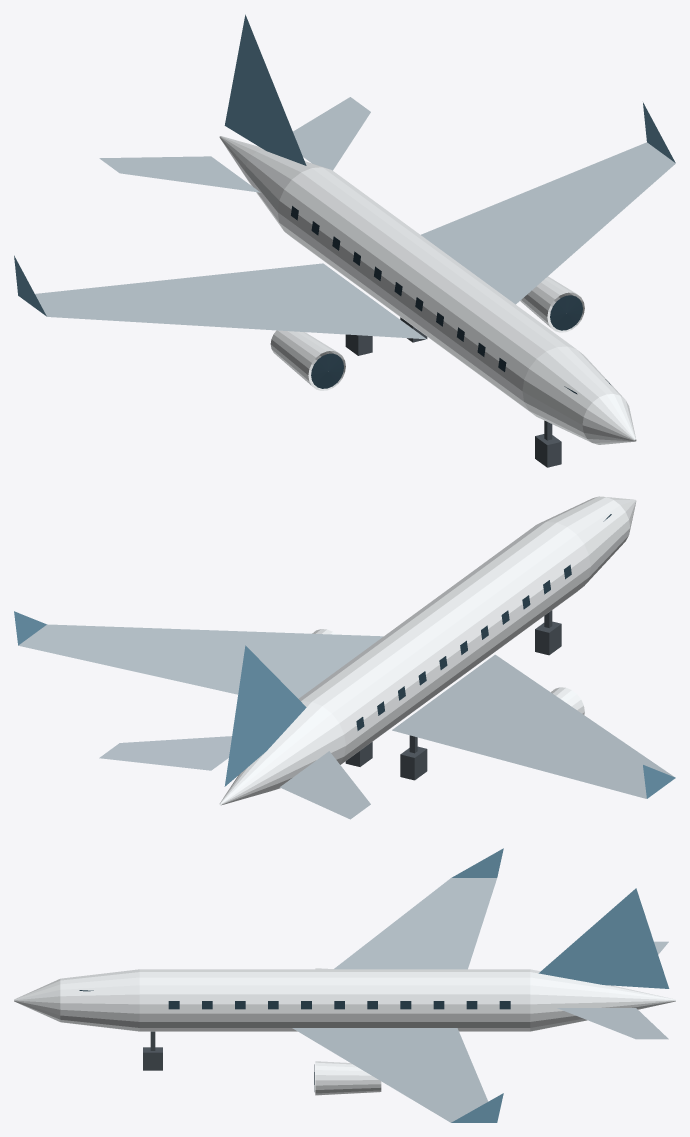
Rendered from b737-AAL.gltf.
3 renders of one model, top to bottom at view 1: azimuth 30°, elevation 25°; view 2: azimuth 150°, elevation 25°; view 3: azimuth 270°, elevation 25°, orthographic. The views are drawn at different scales.
Visible parts, largest first — view 1: object 1, Gear; view 2: object 1, Gear; view 3: object 1, Gear.
Part boxes in pixels (bbox=[...]): object 1: bbox=[14, 14, 675, 444]; Gear: bbox=[345, 317, 561, 467]; object 1: bbox=[14, 496, 675, 819]; Gear: bbox=[345, 610, 561, 780]; object 1: bbox=[14, 848, 675, 1122]; Gear: bbox=[143, 1031, 162, 1070].
Size of the model in its own units: 35 by 12 by 40.
